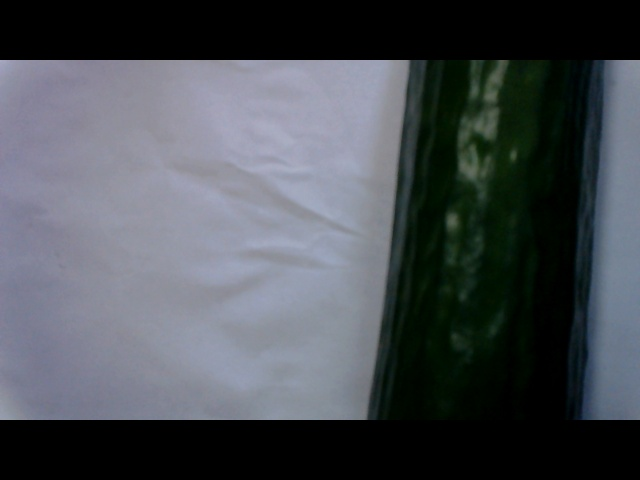cucumber: (364, 46, 596, 416)
